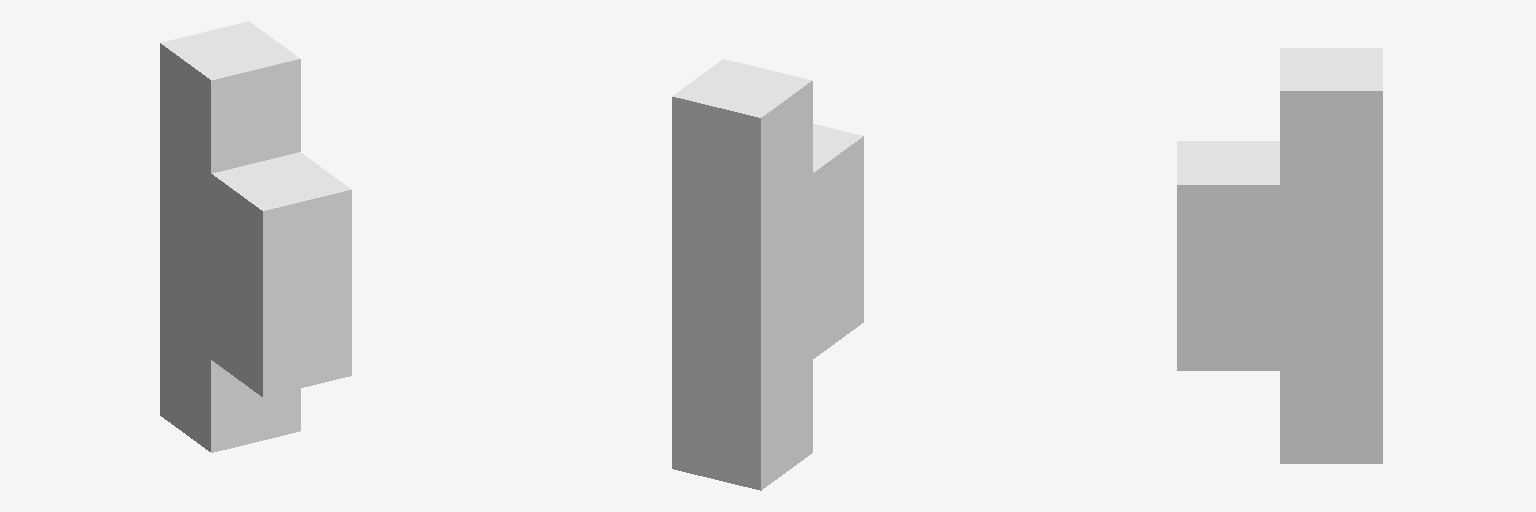
File: SafeDial.obj
3 views of the same model, side by side, from view 1: azimuth 30°, elevation 25°; view 2: azimuth 150°, elevation 25°; view 3: azimuth 270°, elevation 25° (orthographic).
Visible parts, largest first — view 1: object 1; view 2: object 1; view 3: object 1.
Boxes of the visible parts, <box> form: object 1: <box>160,21,351,452</box>; object 1: <box>672,59,863,490</box>; object 1: <box>1177,48,1382,463</box>.
Size of the model in its own units: 0.1 by 0.4 by 0.2.